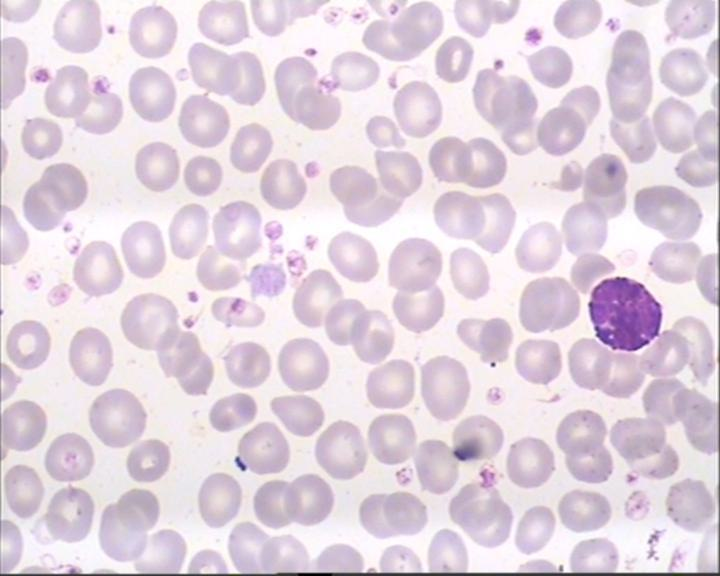baso: (583, 269, 662, 356)
